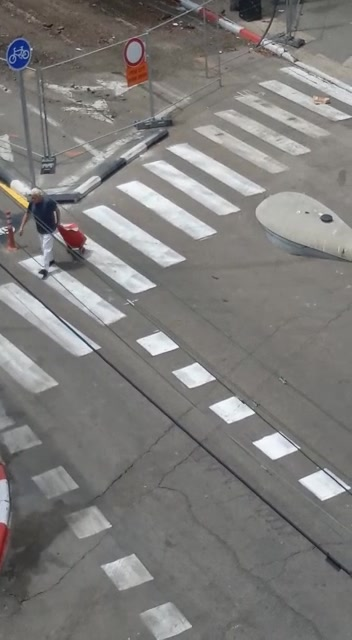crosswalk: (59, 52, 283, 332)
person: (13, 175, 91, 289)
